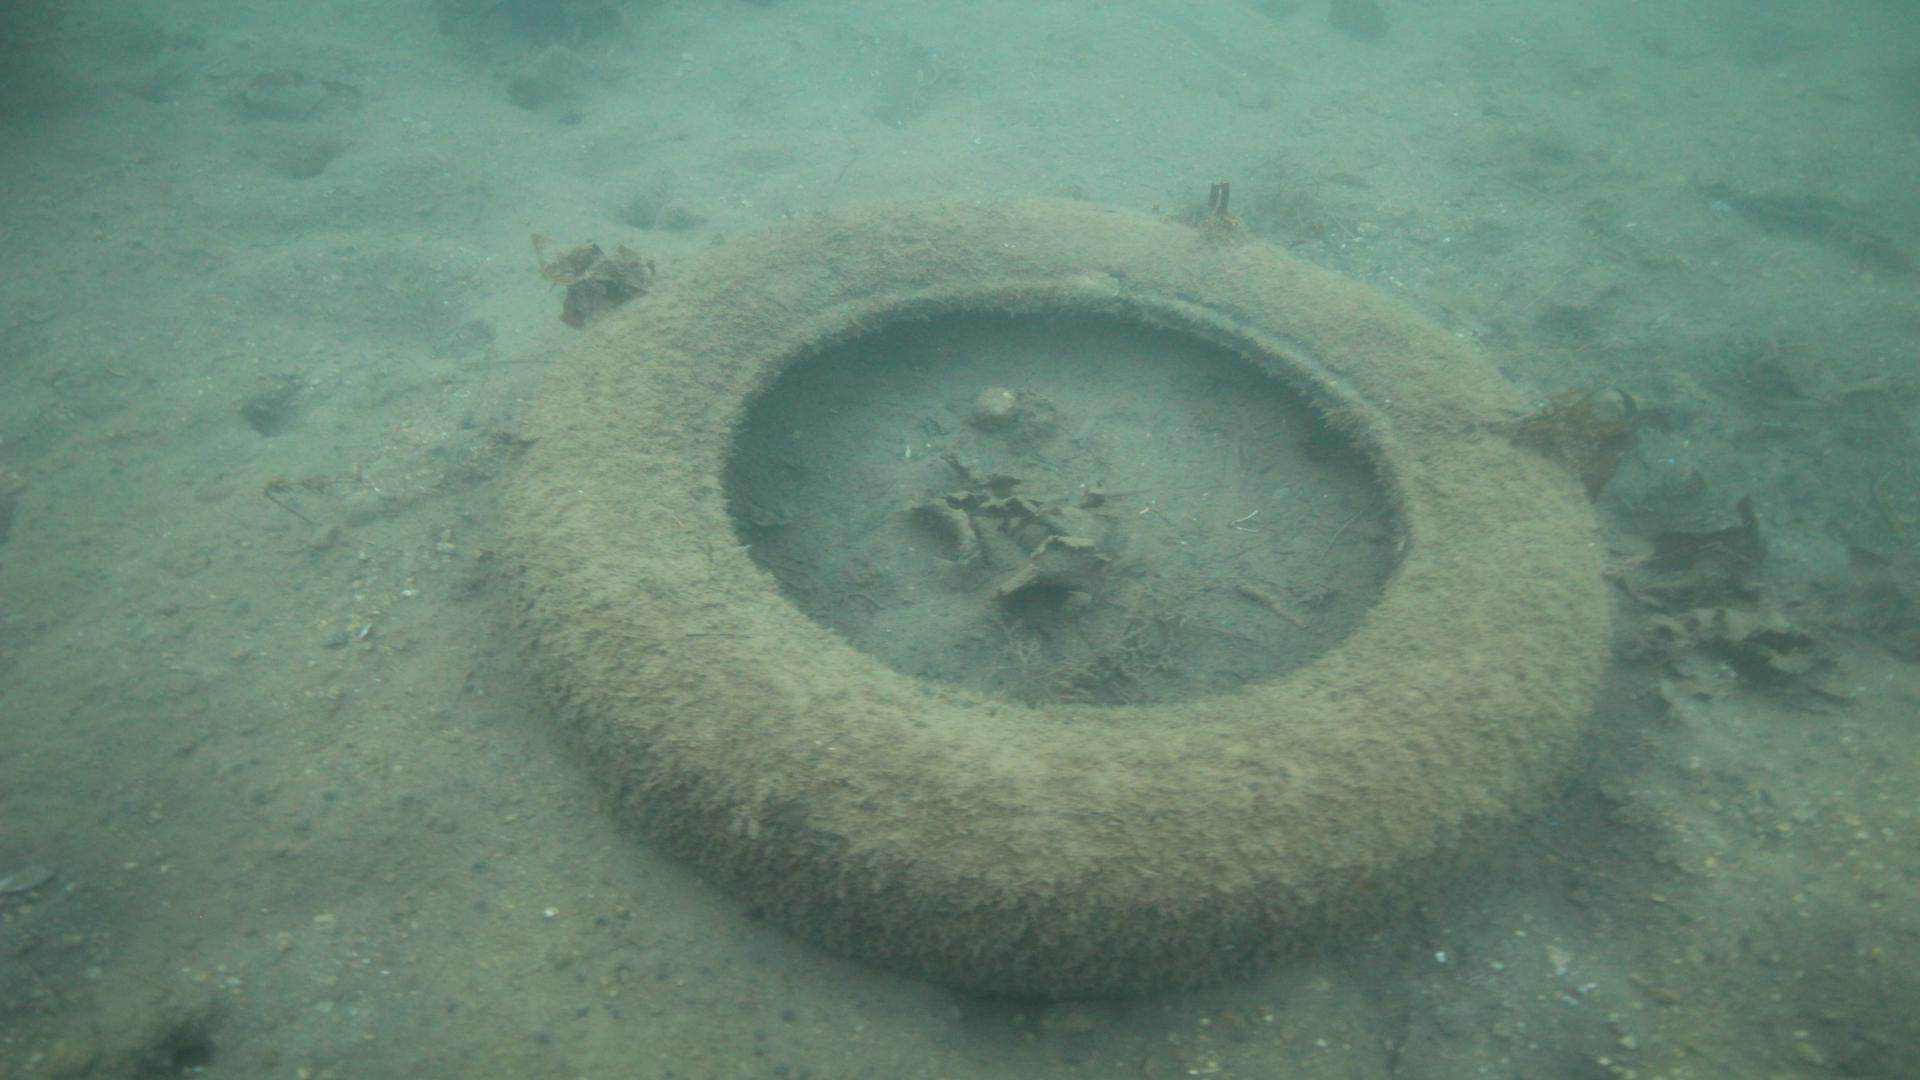tire: (496, 194, 1614, 1004)
